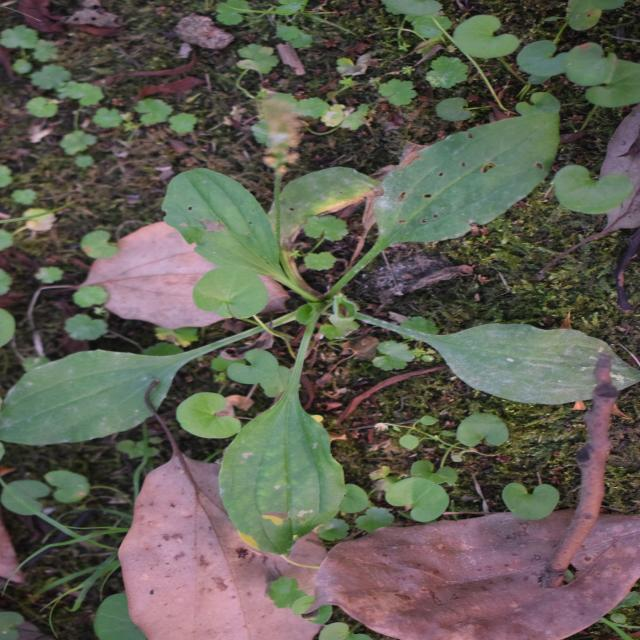plantain: (128, 22, 532, 583)
